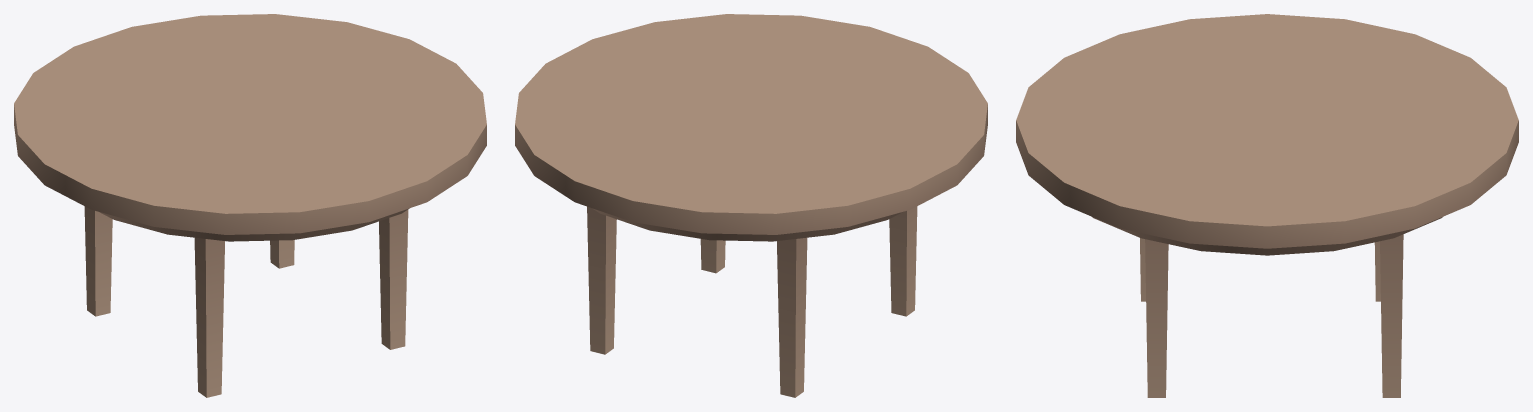
File: table-kitchen-round.glb
3 views of the same model, side by side, from view 1: azimuth 30°, elevation 25°; view 2: azimuth 150°, elevation 25°; view 3: azimuth 270°, elevation 25° (orthographic). The views are drawn at different scales.
Parts seen in each view (by area): view 1: table-kitchen-round; view 2: table-kitchen-round; view 3: table-kitchen-round.
Part boxes in pixels (bbox=[...]): table-kitchen-round: bbox=[14, 14, 486, 397]; table-kitchen-round: bbox=[515, 14, 987, 397]; table-kitchen-round: bbox=[1016, 14, 1518, 397].
Size of the model in its own units: 1.03 by 0.5146 by 1.03.
